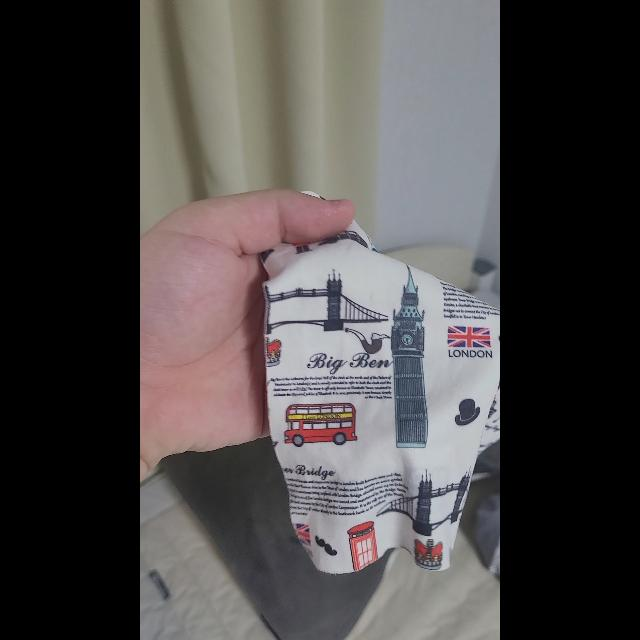Glasses cleaning cloth: (260, 191, 500, 574)
